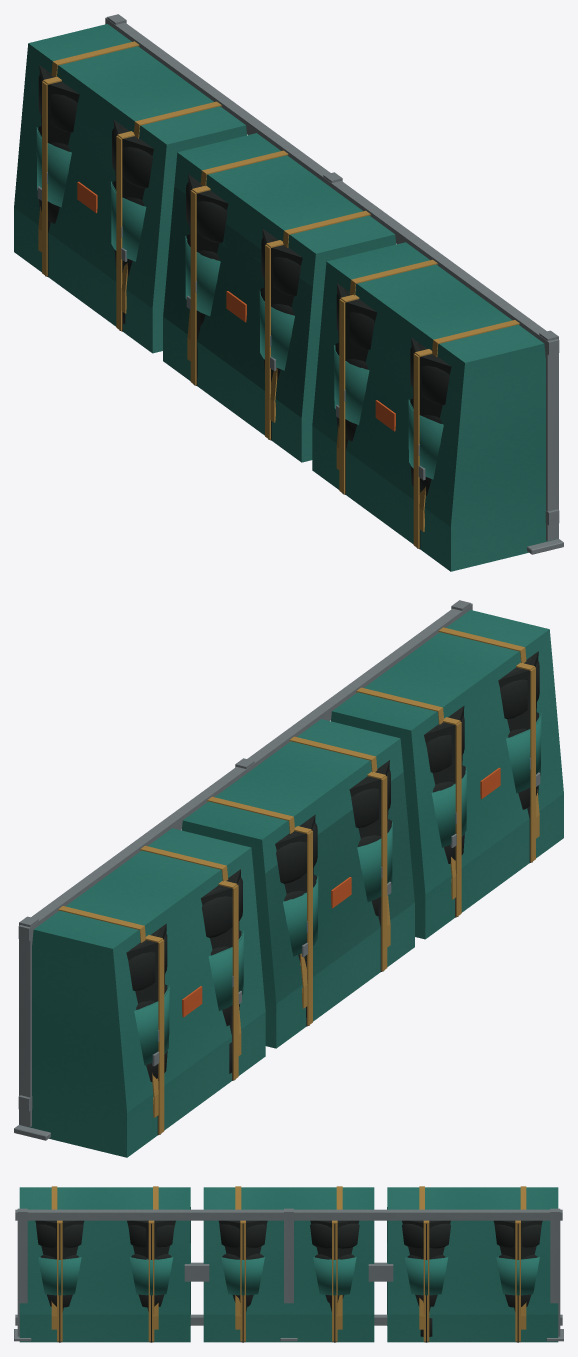
The model's file is aurel-impact-barriers.glb.
The picture shows the model from 3 angles, top to bottom: view 1: azimuth 30°, elevation 25°; view 2: azimuth 150°, elevation 25°; view 3: azimuth 270°, elevation 25°; orthographic projection. The views are drawn at different scales.
Visible parts, largest first — view 1: A04_TEAL_LOD0_SURFACES, A04_TEAL_LOD2_SURFACES, A04_TYRES_LOD0_SURFACES, A04_TEAL_LOD1_SURFACES, A04_TYRES_LOD2_SURFACES, A04_TYRES_LOD1_SURFACES; view 2: A04_TEAL_LOD0_SURFACES, A04_TEAL_LOD2_SURFACES, A04_TEAL_LOD1_SURFACES, A04_TYRES_LOD0_SURFACES, A04_TYRES_LOD2_SURFACES, A04_TYRES_LOD1_SURFACES; view 3: A04_TEAL_LOD0_SURFACES, A04_TEAL_LOD2_SURFACES, A04_TYRES_LOD0_SURFACES, A04_TEAL_LOD1_SURFACES, A04_TYRES_LOD2_SURFACES, A04_TYRES_LOD1_SURFACES.
Boxes of the visible parts, x1,y1,x2,y2 form: A04_TEAL_LOD0_SURFACES: [17, 15, 563, 564]; A04_TEAL_LOD2_SURFACES: [14, 24, 557, 571]; A04_TYRES_LOD0_SURFACES: [36, 70, 449, 548]; A04_TEAL_LOD1_SURFACES: [18, 14, 559, 541]; A04_TYRES_LOD2_SURFACES: [39, 65, 451, 549]; A04_TYRES_LOD1_SURFACES: [37, 76, 442, 447]; A04_TEAL_LOD0_SURFACES: [14, 601, 560, 1150]; A04_TEAL_LOD2_SURFACES: [20, 610, 563, 1157]; A04_TEAL_LOD1_SURFACES: [18, 600, 560, 1127]; A04_TYRES_LOD0_SURFACES: [128, 656, 541, 1134]; A04_TYRES_LOD2_SURFACES: [126, 651, 538, 1135]; A04_TYRES_LOD1_SURFACES: [135, 662, 541, 1033]; A04_TEAL_LOD0_SURFACES: [14, 1186, 563, 1341]; A04_TEAL_LOD2_SURFACES: [19, 1187, 558, 1342]; A04_TYRES_LOD0_SURFACES: [36, 1220, 541, 1341]; A04_TEAL_LOD1_SURFACES: [15, 1208, 562, 1336]; A04_TYRES_LOD2_SURFACES: [35, 1207, 542, 1342]; A04_TYRES_LOD1_SURFACES: [39, 1223, 538, 1272].
Bounding box in the file's own units: 0.5485 × 0.99 × 3.8.
1 material, 1 textured.
